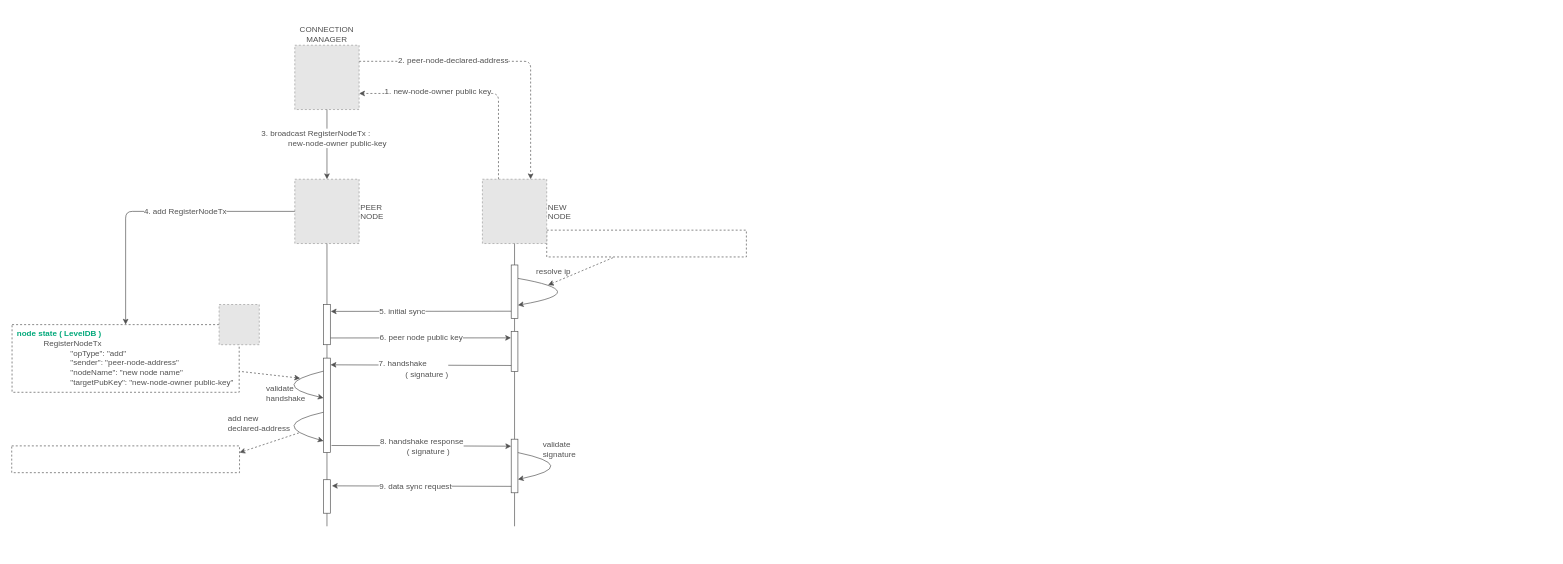
The diagram is 1563 pixels wide and 564 high, and some of its shapes have lost their labels. Grey dashed boxes stand in for pictures. Here are the shapes that lost their labels. From the top down, the centre of each, then its label:
point (646, 243): node-config known-peers: [ peer-node-declared-address ]
point (125, 459): peers.dat new-node ip-address
